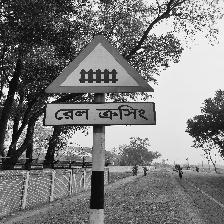Rail-crossing: (43, 34, 157, 128)
